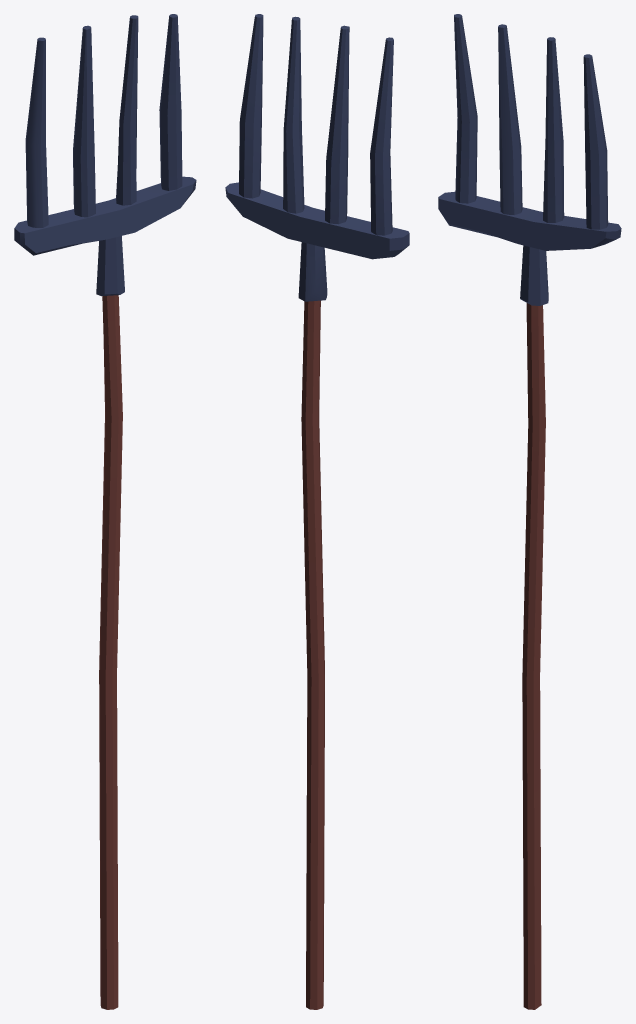
The model's file is Foork.fbx.
3 renders of one model, left to right at view 1: azimuth 30°, elevation 25°; view 2: azimuth 150°, elevation 25°; view 3: azimuth 330°, elevation 25°, orthographic.
Parts seen in each view (by area): view 1: PoorMan Foork 1; view 2: PoorMan Foork 1; view 3: PoorMan Foork 1.
Part boxes in pixels (x1,y1,x2,y2): PoorMan Foork 1: (14, 14, 196, 1009); PoorMan Foork 1: (225, 14, 409, 1009); PoorMan Foork 1: (438, 14, 621, 1009).
Size of the model in its own units: 39.56 by 209 by 5.96.
